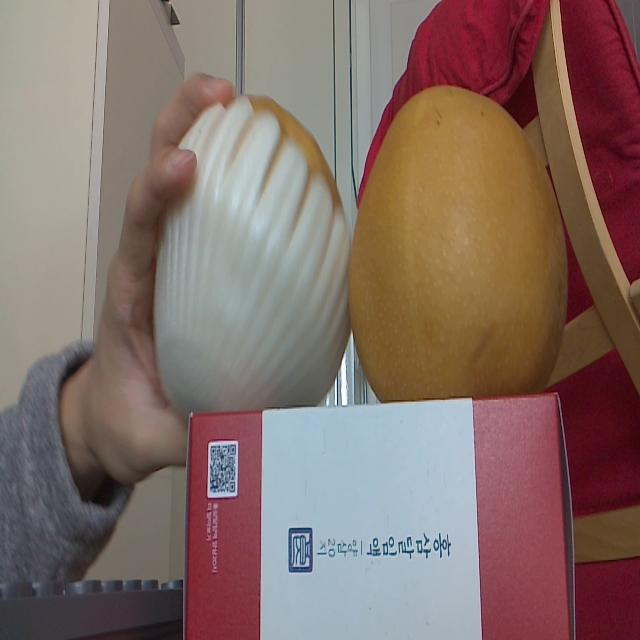pear: (352, 85, 570, 393), (160, 97, 350, 409)
